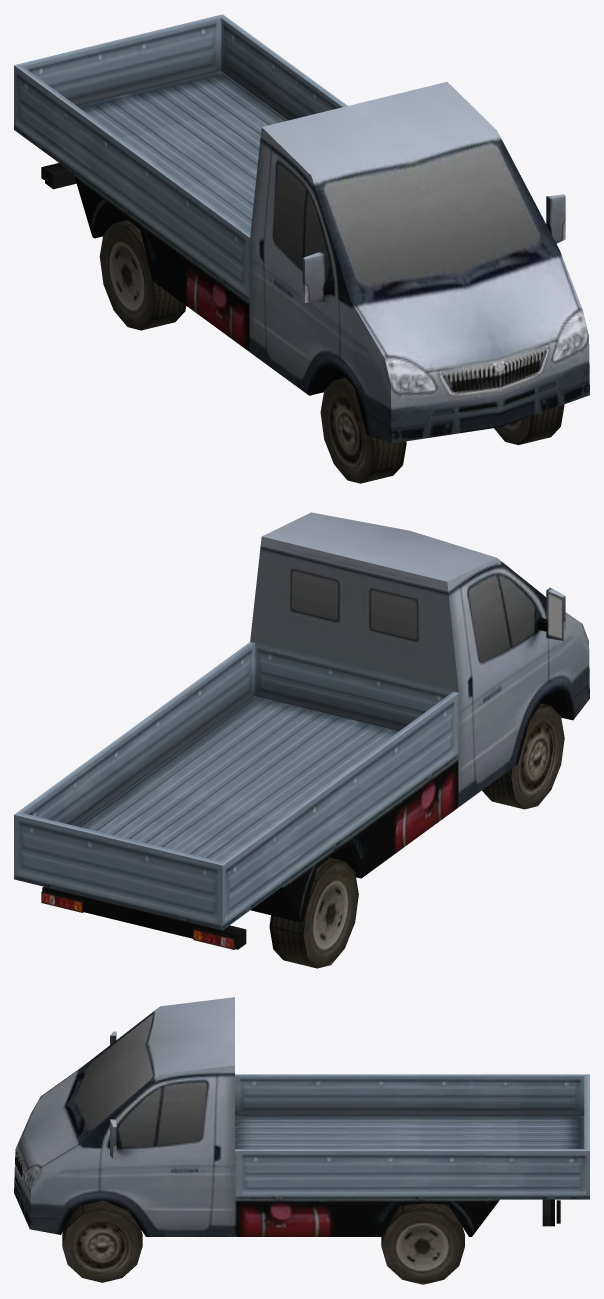
File: flatbed_van.glb
3 renders of one model, top to bottom at view 1: azimuth 30°, elevation 25°; view 2: azimuth 150°, elevation 25°; view 3: azimuth 270°, elevation 25°, orthographic. The views are drawn at different scales.
Visible parts, largest first — view 1: Body; view 2: Body; view 3: Body.
Boxes of the visible parts, left/top/right/bottom form: Body: left=14, top=14, right=589, bottom=483; Body: left=14, top=512, right=589, bottom=968; Body: left=14, top=997, right=589, bottom=1284.
Bounding box in the file's own units: 2.33 × 2.47 × 5.93.
Materials: 3 (2 with a texture image).
